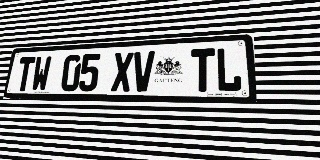0: (60, 54, 82, 91)
5: (78, 54, 101, 92)
L: (216, 47, 242, 92)
T: (191, 48, 215, 92), (15, 57, 36, 91)
V: (132, 51, 155, 92)
W: (31, 56, 52, 91)
X: (111, 52, 134, 92)
